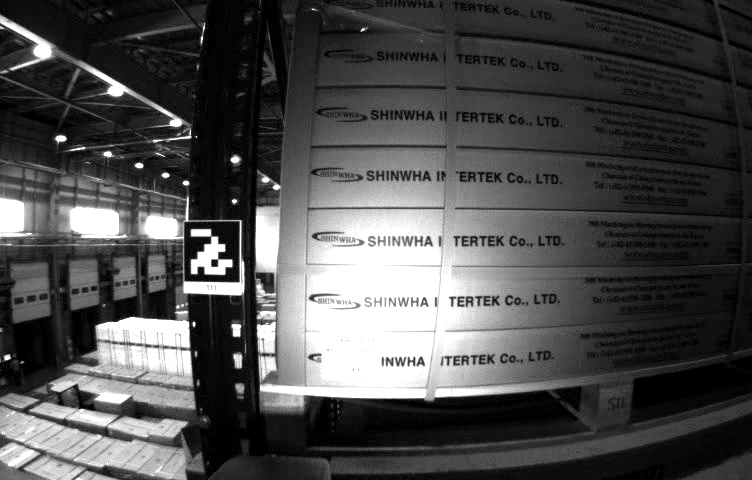True Barcode: (320, 328, 378, 384)
